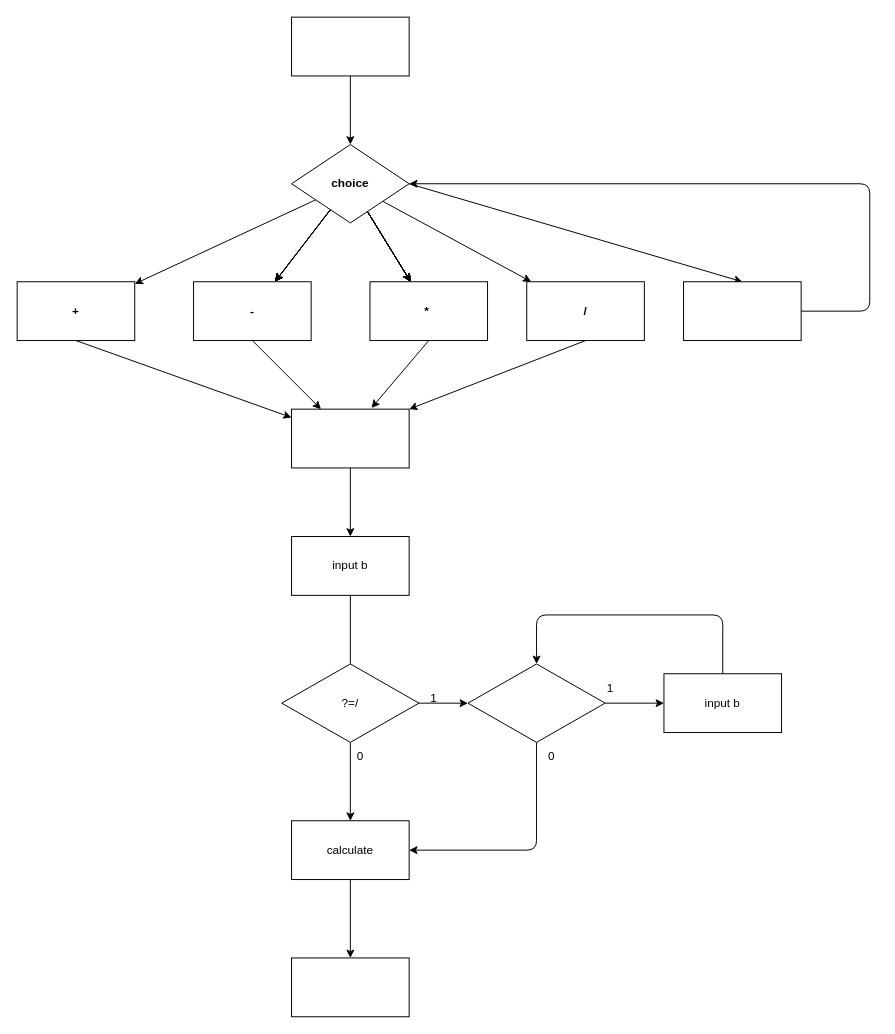
This 895x1034 diagram has some shape labels left out. Here are the shapes that lost their labels. From the top down, the box of each, then its label:
(291, 16, 409, 76): menu
(683, 281, 801, 341): other
(291, 408, 409, 468): input a
(467, 663, 605, 742): b?=0
(291, 957, 409, 1017): result
